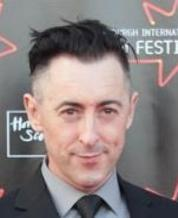face: (58, 97, 121, 164)
